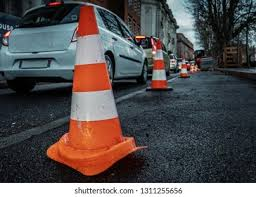car: (1, 4, 148, 86), (131, 32, 171, 77)
cone: (47, 6, 136, 176), (147, 40, 176, 92), (178, 56, 190, 79)
